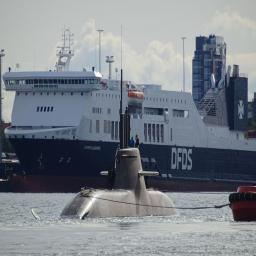submarine: (31, 65, 189, 222)
